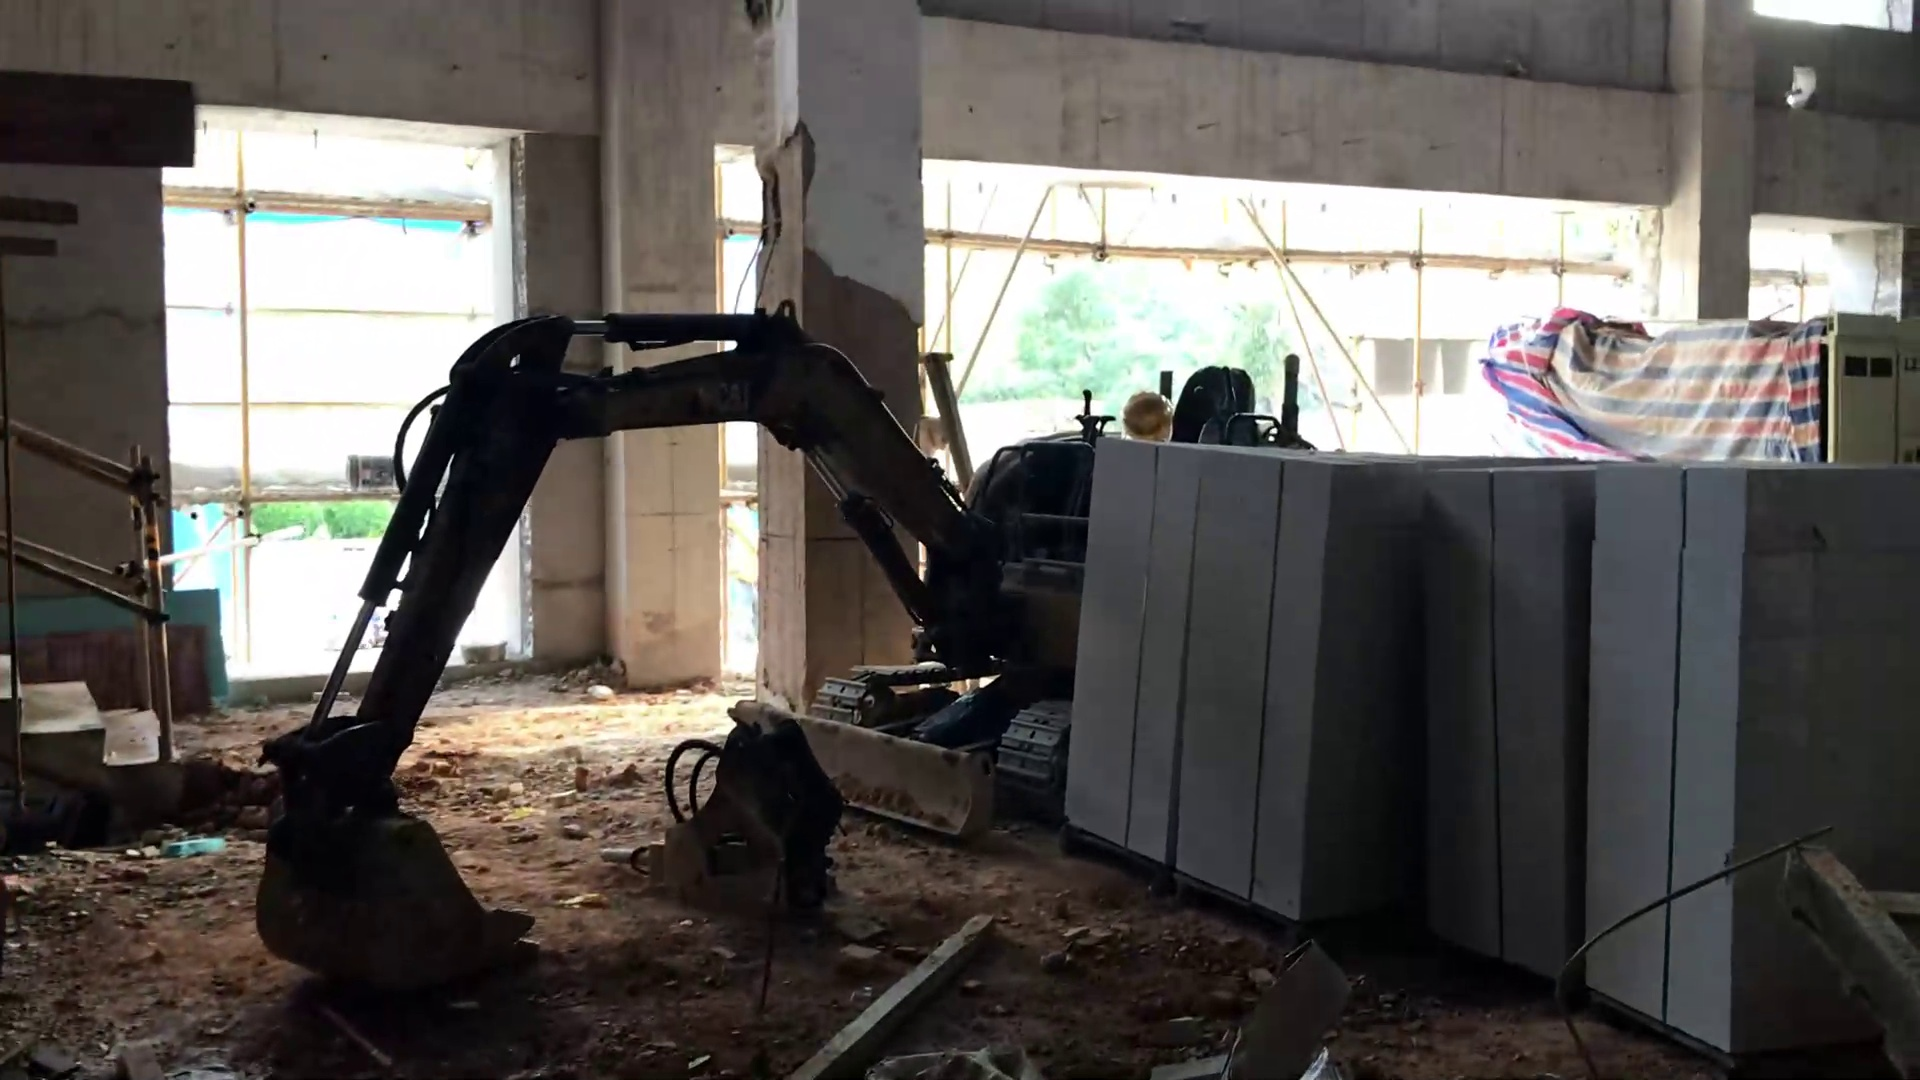brick: (1059, 433, 1920, 1065)
helmet: (1121, 390, 1175, 444)
